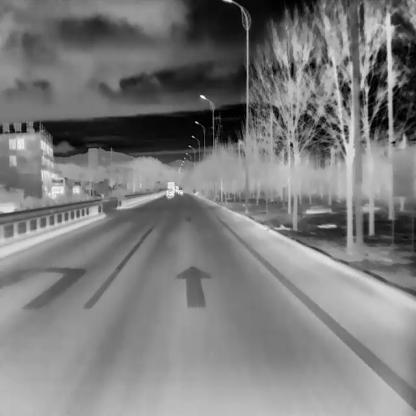car: (165, 187, 174, 197), (178, 187, 184, 194)
truck: (166, 180, 175, 195)
